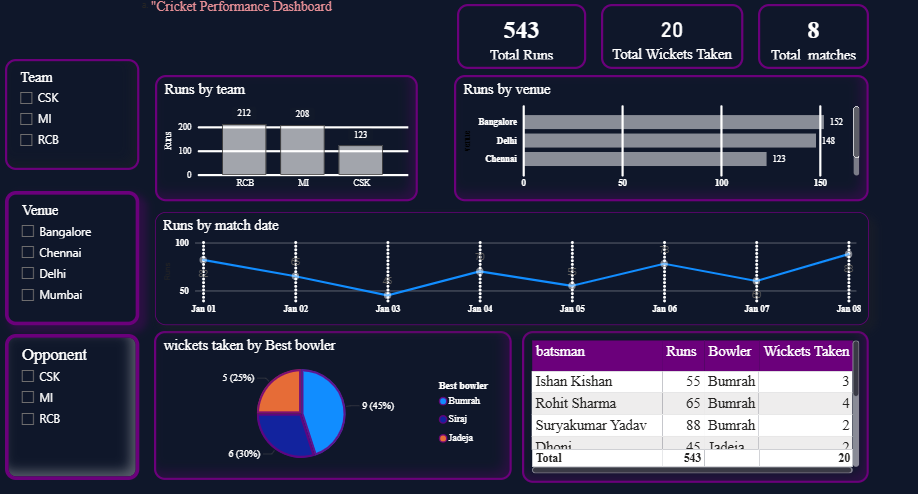

This screenshot's page, from the dashboard's own definition file:
{"tool":"powerbi","page":{"name":"Page 1","canvas":[1237,664],"ordinal":0},"visuals":[{"type":"card","fields":{"Values":["Sum(cricket matches.runs)"]},"box":[704.3,44.3,177.1,88.6],"z":0},{"type":"card","fields":{"Values":["Sum(cricket matches.wickets_taken)"]},"box":[905.7,44.3,194.3,88.6],"z":1000},{"type":"card","fields":{"Values":["CountNonNull(cricket matches.match_date)"]},"box":[1120,44.3,152.9,88.6],"z":2000},{"type":"pieChart","fields":{"Y":["Sum(cricket matches.wickets_taken)"],"Category":["cricket matches.best_bowler"]},"box":[294.3,495.7,490,204.3],"z":3000},{"type":"barChart","fields":{"Category":["cricket matches.venue"],"Y":["Sum(cricket matches.runs)"]},"box":[704.3,142.9,568.6,172.9],"z":4000},{"type":"columnChart","fields":{"Category":["cricket matches.team"],"Y":["Sum(cricket matches.runs)"]},"box":[294.3,151.4,360,172.9],"z":5000},{"type":"slicer","fields":{"Values":["cricket matches.team"]},"box":[45.7,104.3,182.9,151.4],"z":6000},{"type":"slicer","fields":{"Values":["cricket matches.venue"]},"box":[45.7,281.4,182.9,182.9],"z":7000},{"type":"slicer","fields":{"Values":["cricket matches.opponent"]},"box":[45.7,480,182.9,200],"z":8000},{"type":"tableEx","fields":{"Values":["cricket matches.batsman","Sum(cricket matches.runs)","cricket matches.best_bowler","Sum(cricket matches.wickets_taken)"]},"box":[797.1,495.7,475.7,204.3],"z":9000},{"type":"lineChart","fields":{"Y":["Sum(cricket matches.runs)"],"Category":["cricket matches.match_date"]},"box":[294.3,324.3,978.6,155.7],"z":10000},{"type":"textbox","box":[0,0,1272.9,28.6],"z":11000}]}

Visuals, with their boxes in screenshot pixels (x1, y1, x2, y2), scaled from the page's 1237x664 canvas onto the 918x494 screenshot:
card - Sum(cricket matches.runs): 523,33,654,99
card - Sum(cricket matches.wickets_taken): 672,33,816,99
card - CountNonNull(cricket matches.match_date): 831,33,917,99
pieChart - Sum(cricket matches.wickets_taken) x cricket matches.best_bowler: 218,369,582,493
barChart - cricket matches.venue x Sum(cricket matches.runs): 523,106,917,235
columnChart - cricket matches.team x Sum(cricket matches.runs): 218,113,486,241
slicer - cricket matches.team: 34,78,170,190
slicer - cricket matches.venue: 34,209,170,345
slicer - cricket matches.opponent: 34,357,170,493
tableEx - cricket matches.batsman x Sum(cricket matches.runs): 592,369,917,493
lineChart - Sum(cricket matches.runs) x cricket matches.match_date: 218,241,917,357
textbox: 0,0,917,21
